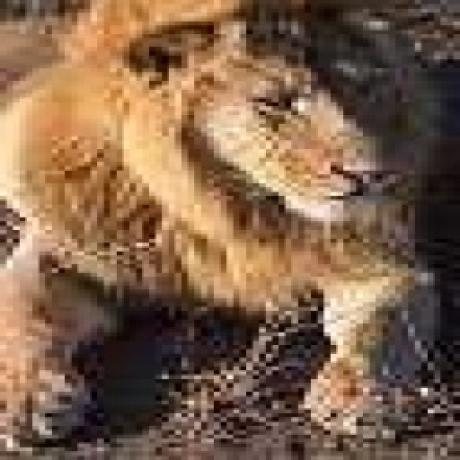Lion: (0, 0, 460, 442)
